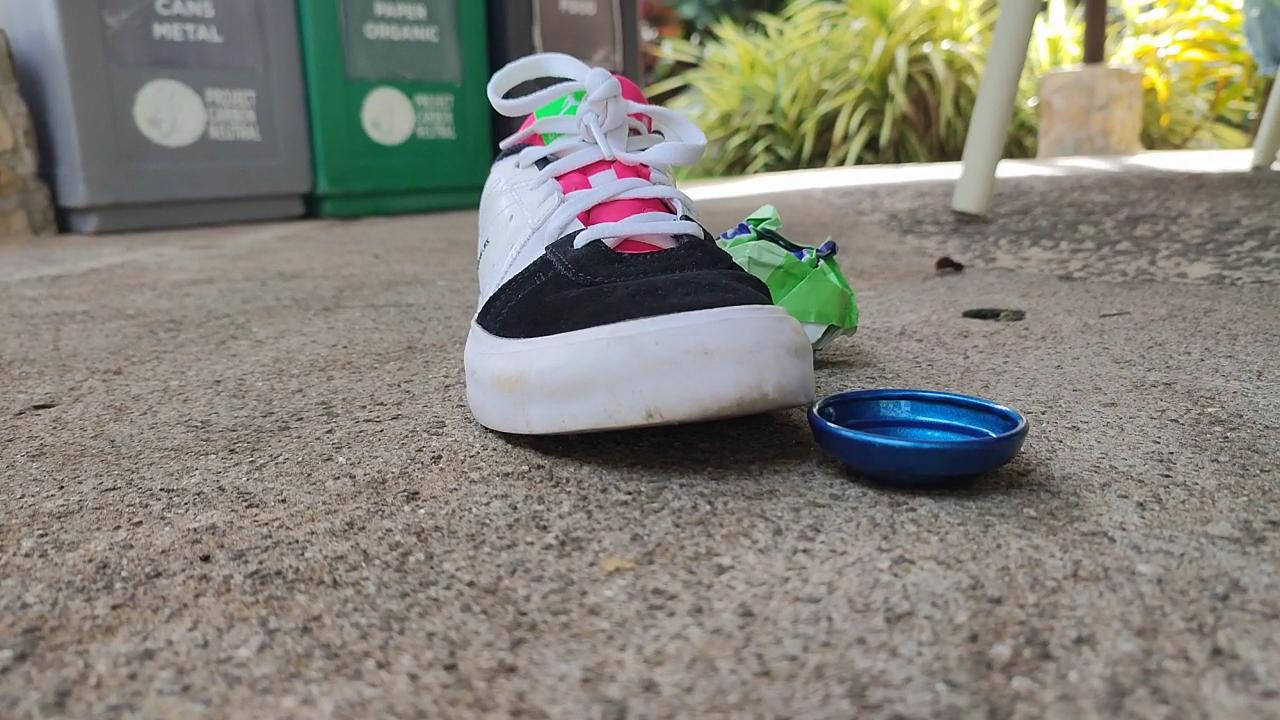Paper: (712, 195, 863, 369)
